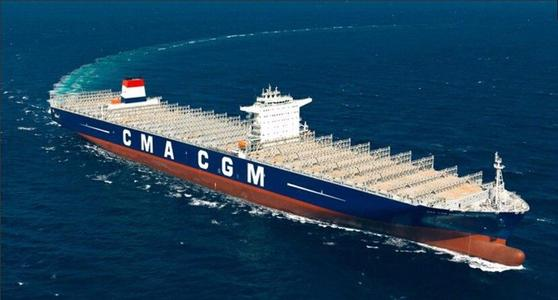Cargoship: (47, 74, 530, 268)
